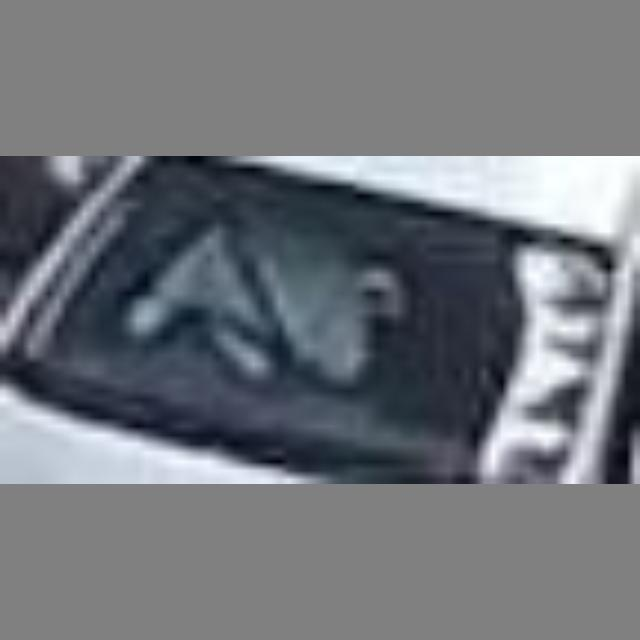pakai: (151, 218, 373, 405)
